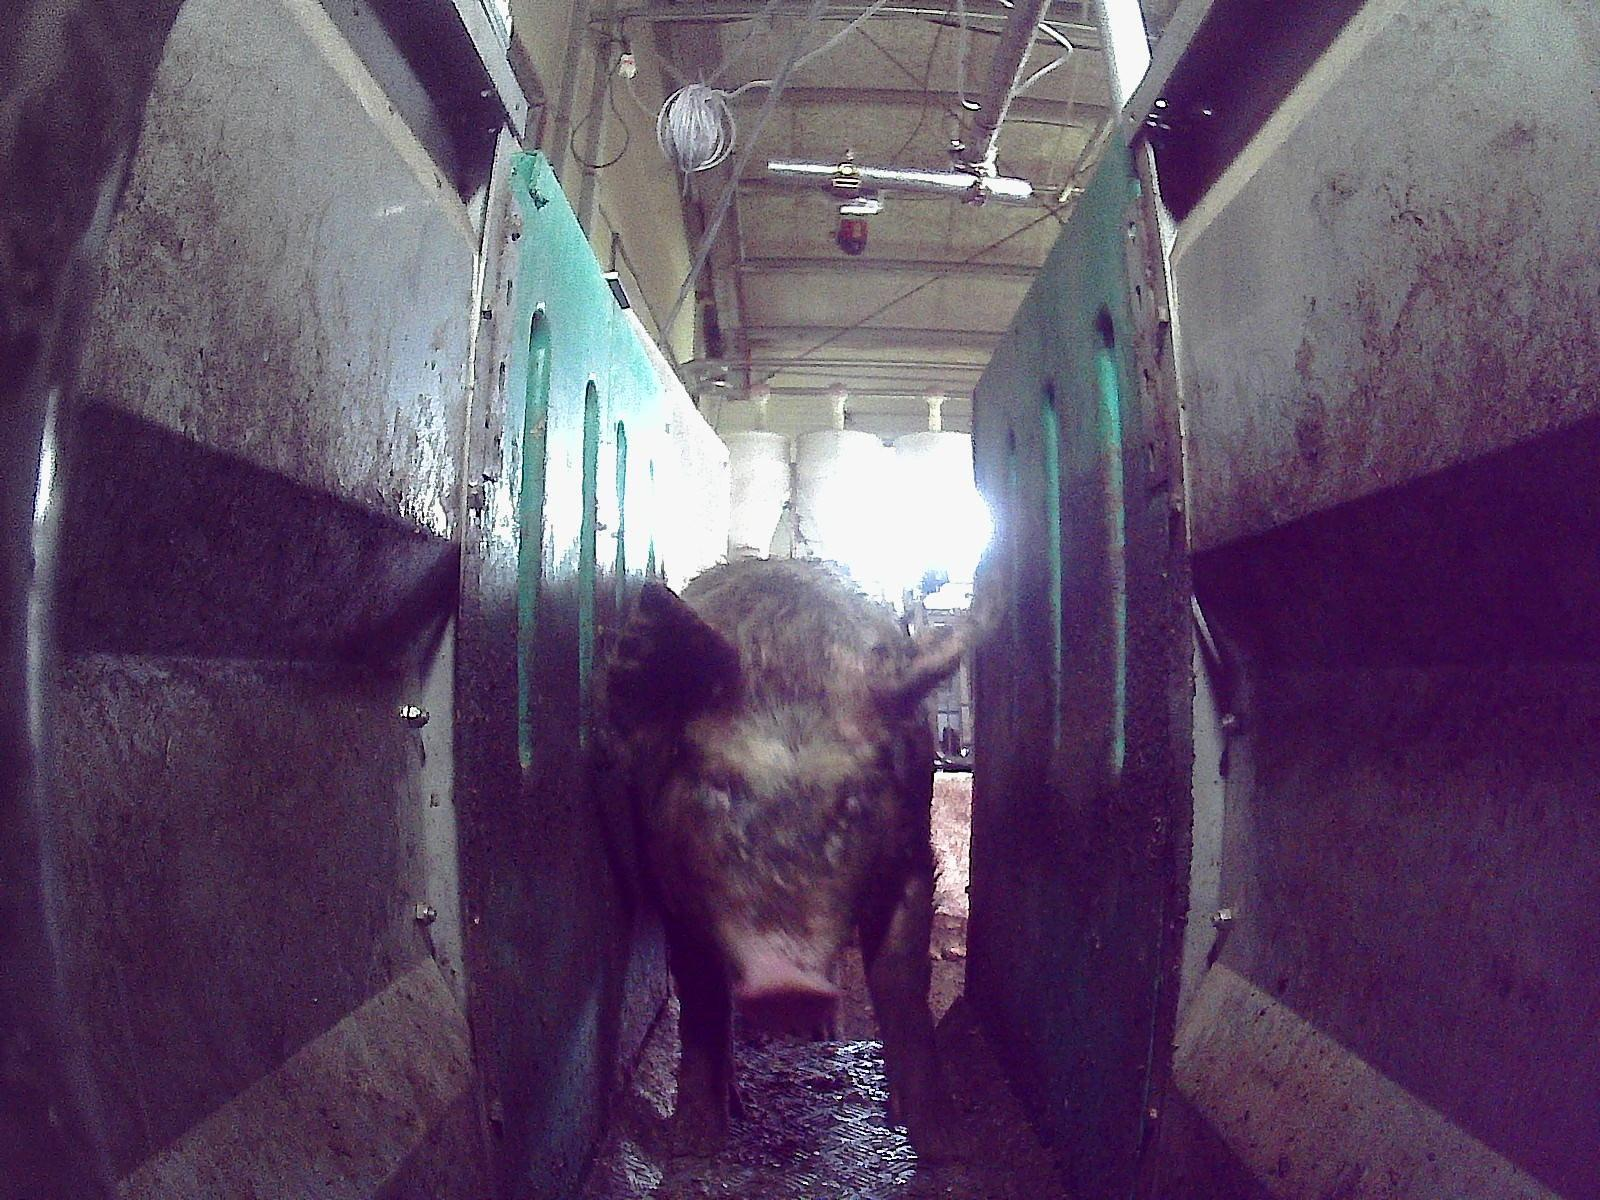Face: (659, 688, 889, 1027)
